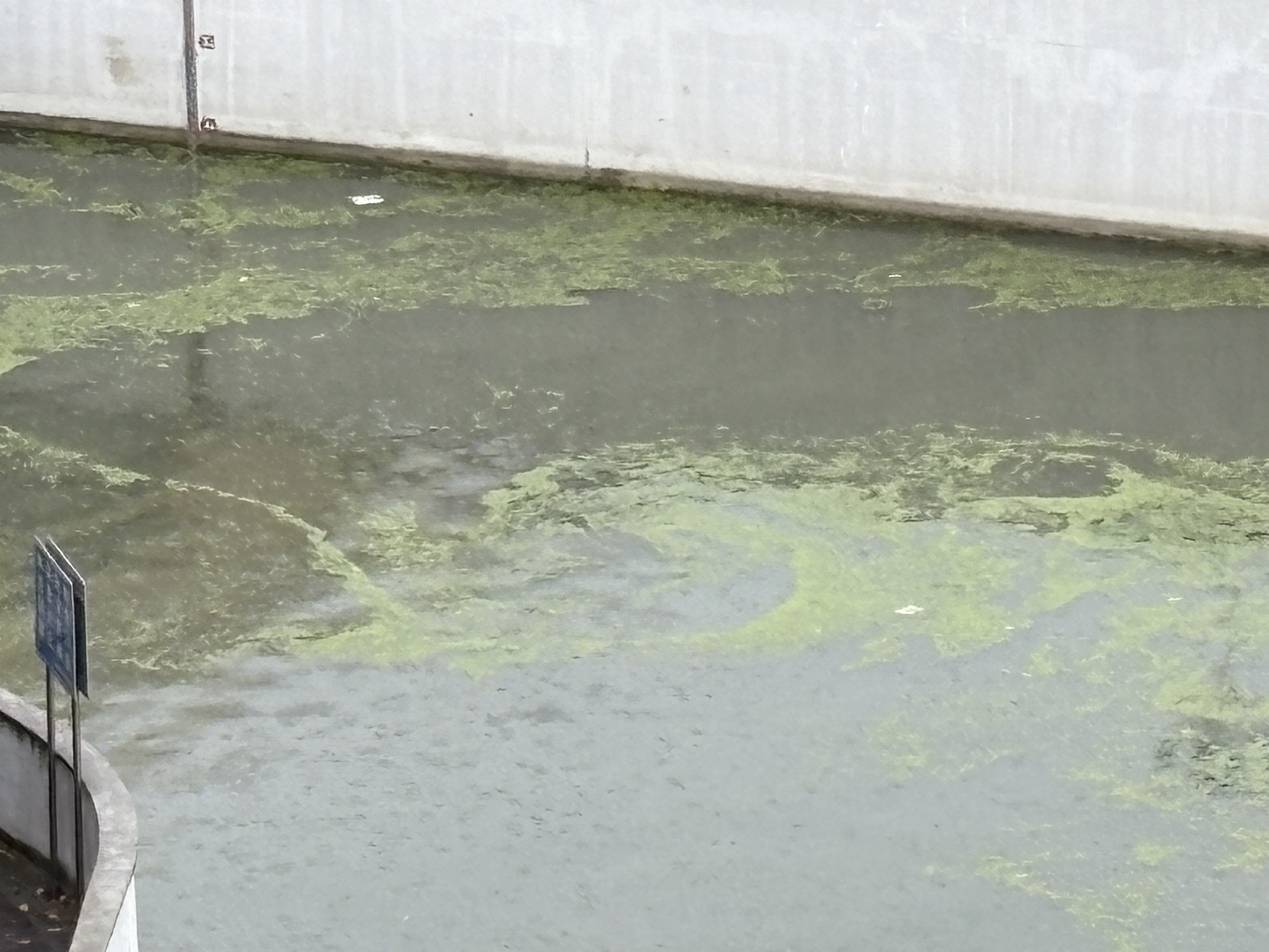Other: (518, 454, 864, 546), (910, 232, 1269, 309), (217, 258, 615, 316), (994, 498, 1261, 565), (1165, 693, 1269, 798), (1, 298, 209, 344), (798, 548, 888, 624)
Plastic wastes: (344, 187, 386, 207), (893, 603, 928, 618)
